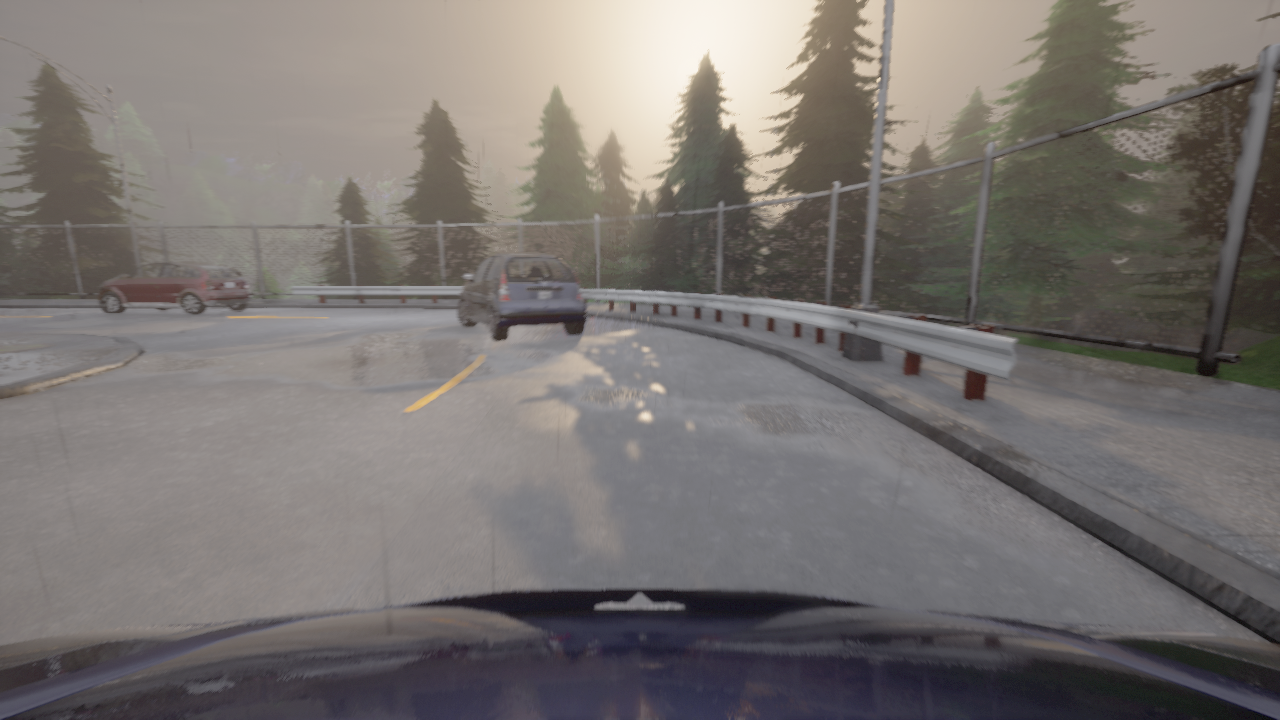cyclist: (0, 588, 1279, 719), (458, 253, 587, 341), (99, 262, 250, 314)
